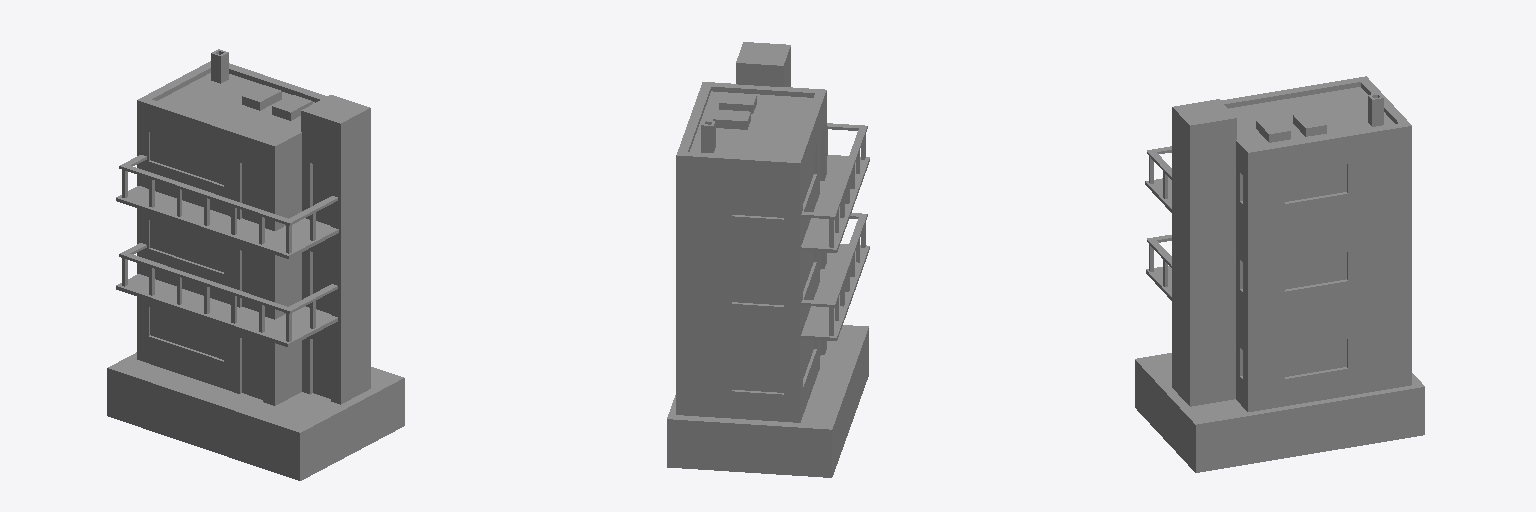
The model's file is BuildingOBJ3.obj.
3 views of the same model, side by side, from view 1: azimuth 30°, elevation 25°; view 2: azimuth 150°, elevation 25°; view 3: azimuth 270°, elevation 25° (orthographic).
Visible parts, largest first — view 1: cabin_004.007_Untitled.004; view 2: cabin_004.007_Untitled.004; view 3: cabin_004.007_Untitled.004.
Boxes of the visible parts, box(x1,y1,x2,y2) form: cabin_004.007_Untitled.004: box(107, 49, 404, 480); cabin_004.007_Untitled.004: box(667, 42, 869, 477); cabin_004.007_Untitled.004: box(1135, 76, 1424, 472).
Bounding box in the file's own units: 3.09 × 4.58 × 3.65.